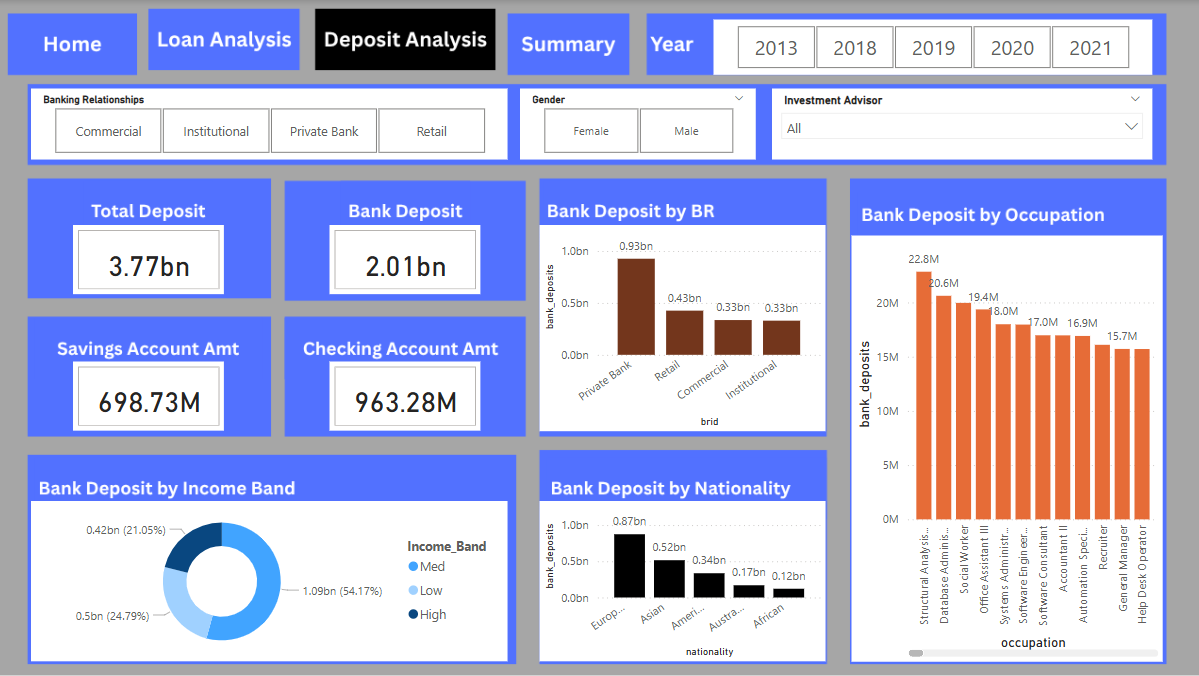

The page's visual inventory and layout, read from the dashboard file:
{"tool":"powerbi","page":{"name":"Deposit Analysis","canvas":[1280,720],"ordinal":2},"visuals":[{"type":"slicer","fields":{"Values":["public banking.Year_of_Joining"]},"box":[758.3,20,465,58.3],"z":0},{"type":"actionButton","box":[540,20,125,46.7],"z":1000},{"type":"actionButton","box":[340,11.7,181.7,66.7],"z":2000},{"type":"actionButton","box":[18.3,11.7,121.7,66.7],"z":3000},{"type":"cardVisual","fields":{"Data":["public banking.Total Deposit"]},"box":[80,238.3,160,73.3],"z":4000},{"type":"cardVisual","fields":{"Data":["Sum(public banking.checking_accounts)"]},"box":[351.7,383.3,160,73.3],"z":5000},{"type":"cardVisual","fields":{"Data":["Sum(public banking.bank_deposits)"]},"box":[351.7,238.3,160,73.3],"z":6000},{"type":"cardVisual","fields":{"Data":["Sum(public banking.saving_accounts)"]},"box":[80,383.3,160,73.3],"z":7000},{"type":"donutChart","fields":{"Category":["public banking.Income_Band"],"Y":["Sum(public banking.bank_deposits)"]},"box":[35,531.7,505,170],"z":8000},{"type":"clusteredColumnChart","fields":{"Category":["public banking.brid"],"Y":["Sum(public banking.bank_deposits)"]},"box":[575,238.3,303.3,218.3],"z":9000},{"type":"clusteredColumnChart","fields":{"Category":["public banking.nationality"],"Y":["Sum(public banking.bank_deposits)"]},"box":[575,531.7,303.3,170],"z":10000},{"type":"clusteredColumnChart","fields":{"Category":["public banking.occupation"],"Y":["Sum(public banking.bank_deposits)"]},"box":[905,250,330,451.7],"z":11000},{"type":"slicer","fields":{"Values":["public banking.brid"]},"box":[35,93.3,505,75],"z":12000},{"type":"slicer","fields":{"Values":["public banking.genderid"]},"box":[553.3,93.3,250,75],"z":13000},{"type":"slicer","fields":{"Values":["public banking.iaid"]},"box":[820,93.3,403.3,75],"z":14000},{"type":"actionButton","box":[160,11.7,153.3,66.7],"z":15000}]}

Visuals, with their boxes in screenshot pixels (x1, y1, x2, y2), scaled from the page's 1280x720 canvas onto the 1199x676 screenshot:
slicer - public banking.Year_of_Joining: l=710, t=19, r=1146, b=74
actionButton: l=506, t=19, r=623, b=63
actionButton: l=318, t=11, r=489, b=74
actionButton: l=17, t=11, r=131, b=74
cardVisual - public banking.Total Deposit: l=75, t=224, r=225, b=293
cardVisual - Sum(public banking.checking_accounts): l=329, t=360, r=479, b=429
cardVisual - Sum(public banking.bank_deposits): l=329, t=224, r=479, b=293
cardVisual - Sum(public banking.saving_accounts): l=75, t=360, r=225, b=429
donutChart - public banking.Income_Band x Sum(public banking.bank_deposits): l=33, t=499, r=506, b=659
clusteredColumnChart - public banking.brid x Sum(public banking.bank_deposits): l=539, t=224, r=823, b=429
clusteredColumnChart - public banking.nationality x Sum(public banking.bank_deposits): l=539, t=499, r=823, b=659
clusteredColumnChart - public banking.occupation x Sum(public banking.bank_deposits): l=848, t=235, r=1157, b=659
slicer - public banking.brid: l=33, t=88, r=506, b=158
slicer - public banking.genderid: l=518, t=88, r=752, b=158
slicer - public banking.iaid: l=768, t=88, r=1146, b=158
actionButton: l=150, t=11, r=293, b=74
